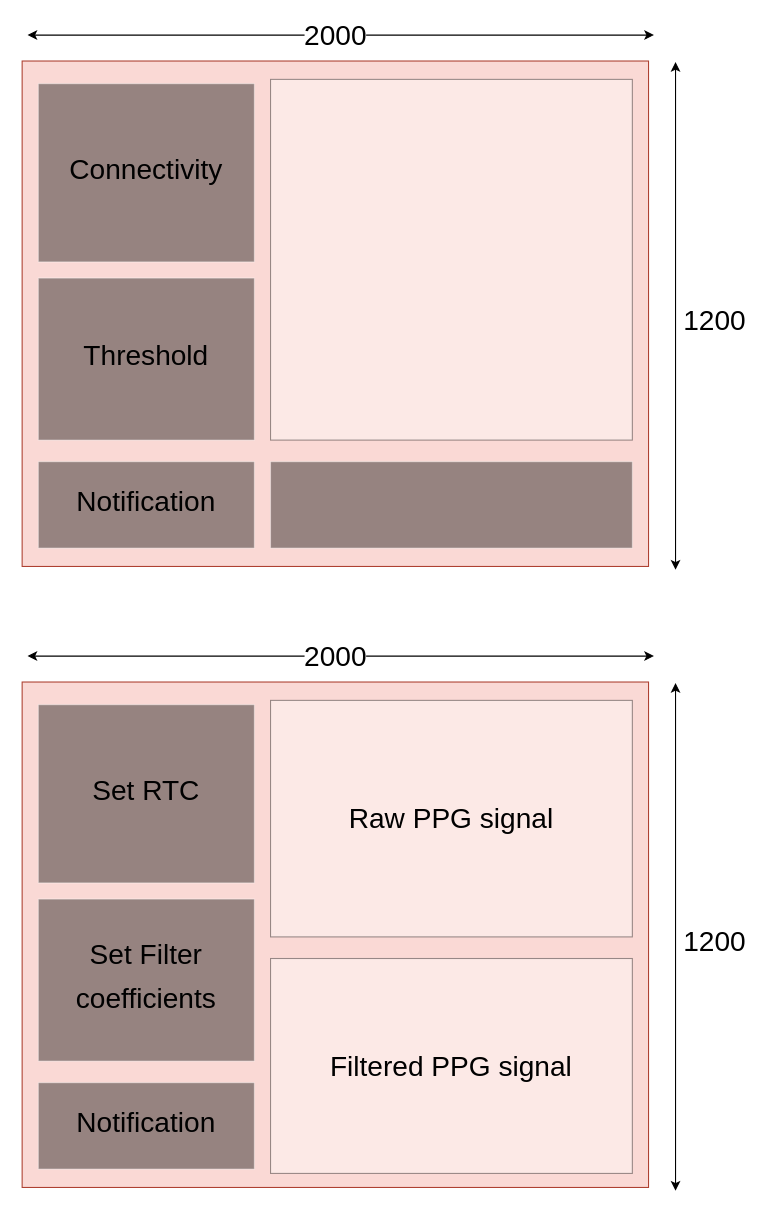
The diagram is 764 pixels wide and 1219 high, and some of its shapes have lost their labels. The centre of each missing label's shape, as x and y in pixels:
Graph heart rate: the point at 450,259
Record: the point at 450,504
